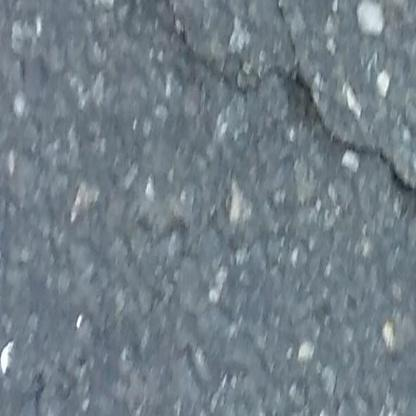Cracks: (264, 0, 416, 235), (147, 0, 295, 106), (123, 0, 142, 21)
